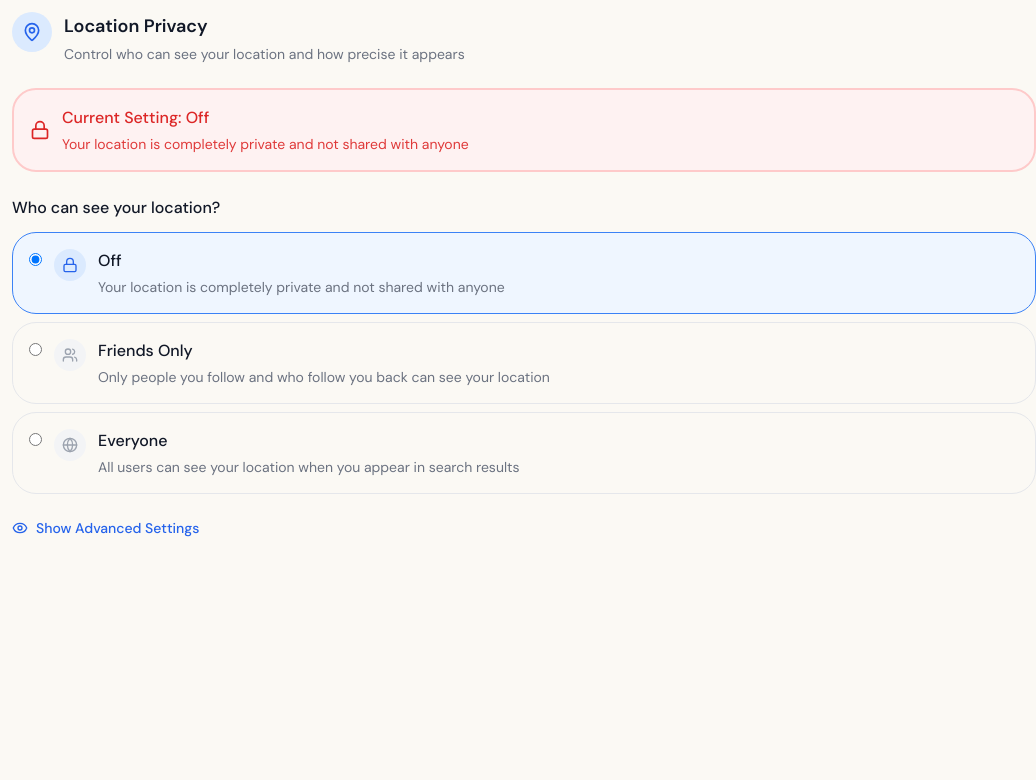
Test: LocationSettings › shows privacy summary
The width and height of the screenshot is (1036, 780).
Click the radio button labelled "Friends Only". click: (36, 350)
box: left=29, top=343, right=42, bottom=356
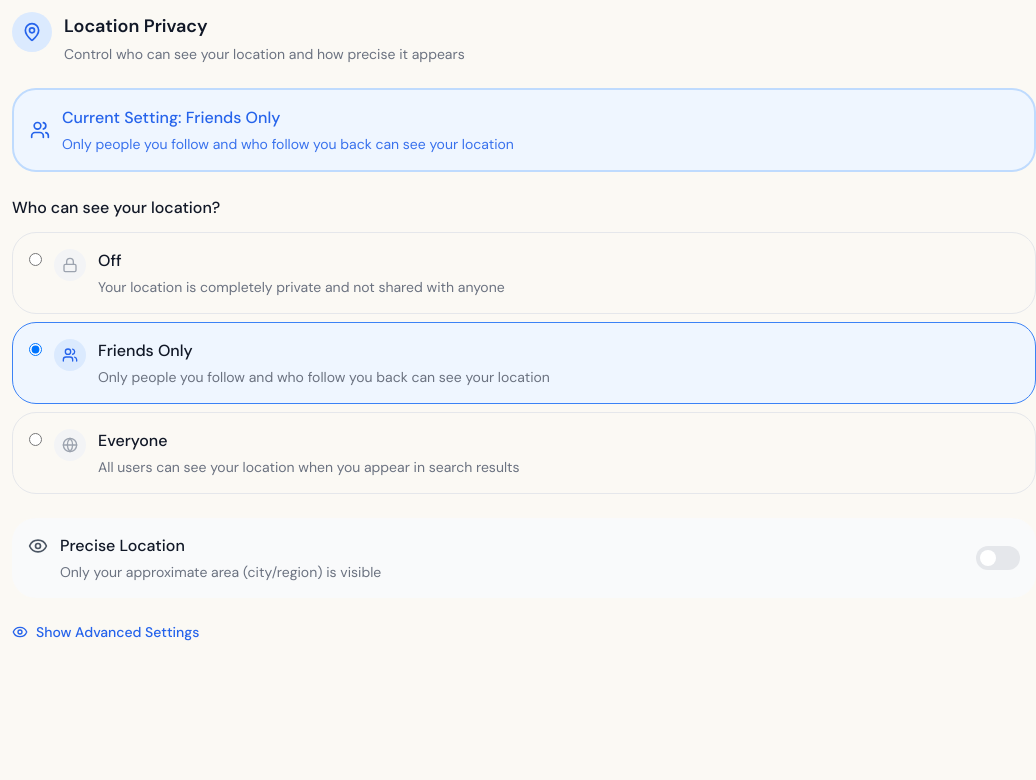
expect the text "Only your approximate area (city/region) is visible" is shown: met, box left=60, top=562, right=381, bottom=582
Click the button named "Toggle precise location". click: (998, 558)
box: left=976, top=546, right=1020, bottom=570
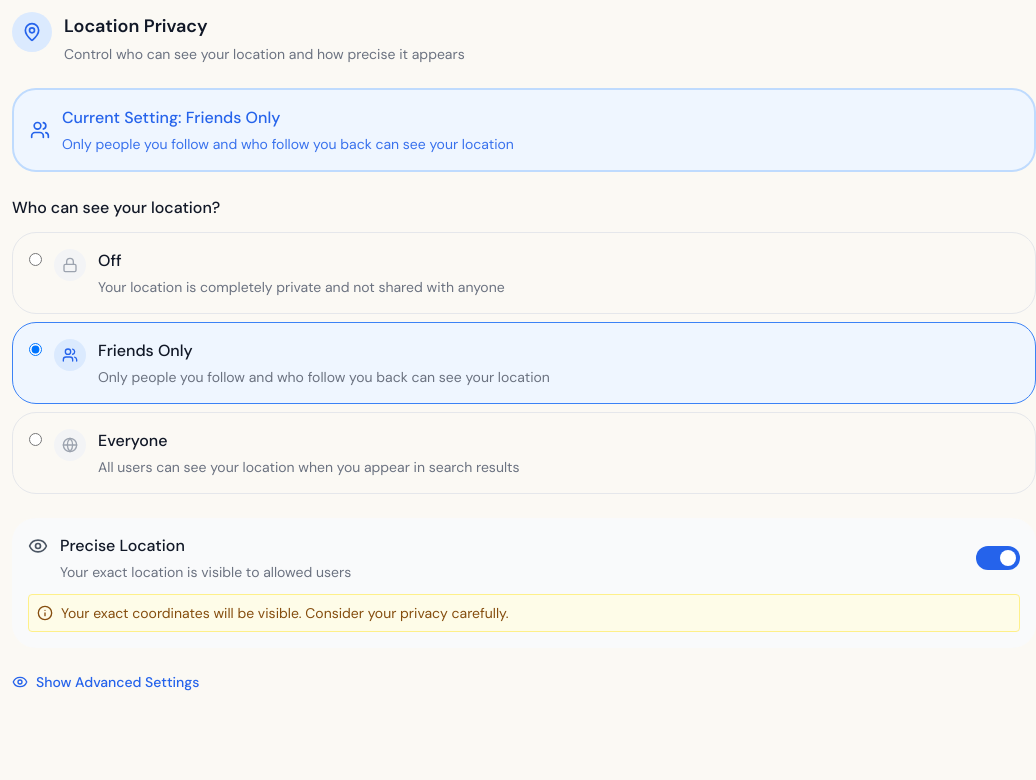
expect the text "Your exact location is visible to allowed users" is shown: met, box left=60, top=562, right=351, bottom=582
